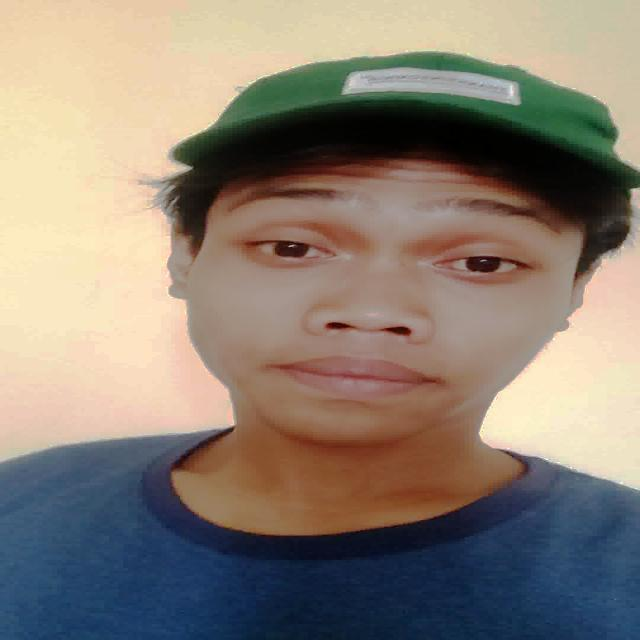TOPI: (187, 50, 640, 198)
